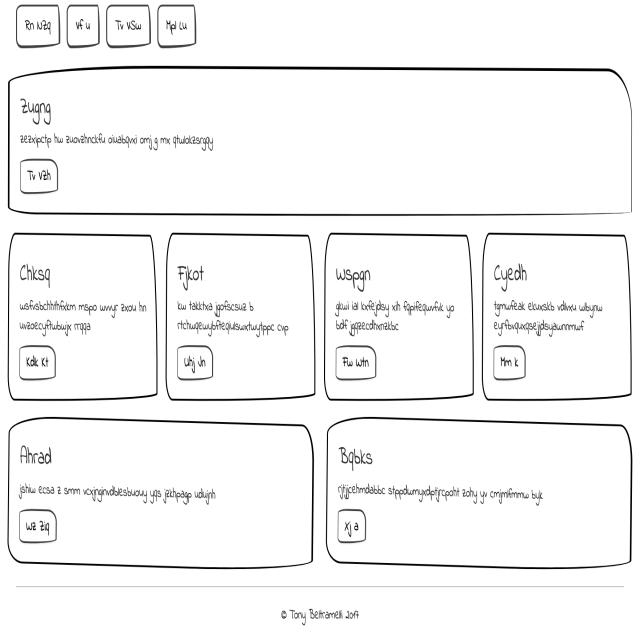Button: (333, 501, 378, 555), (16, 342, 65, 387), (491, 339, 529, 389), (179, 338, 217, 384), (16, 512, 62, 550), (336, 348, 378, 384), (22, 160, 59, 195)
Card: (3, 62, 634, 226), (5, 67, 638, 226), (332, 421, 630, 578), (12, 424, 314, 578), (9, 233, 161, 412), (484, 228, 634, 409), (329, 237, 476, 409), (173, 231, 316, 400)
Footer: (0, 590, 640, 640)
Heading 6: (14, 136, 221, 155), (15, 237, 74, 291), (10, 76, 58, 125), (16, 85, 75, 124), (20, 438, 66, 483), (174, 257, 230, 293), (332, 248, 376, 292), (338, 434, 386, 474), (494, 248, 528, 295)
Navigation Bar: (14, 10, 213, 58), (10, 8, 217, 52)
Paragraph: (337, 474, 546, 516), (336, 289, 458, 340), (18, 476, 219, 506), (17, 299, 153, 341), (175, 296, 297, 341), (493, 302, 617, 342), (15, 132, 242, 153)
